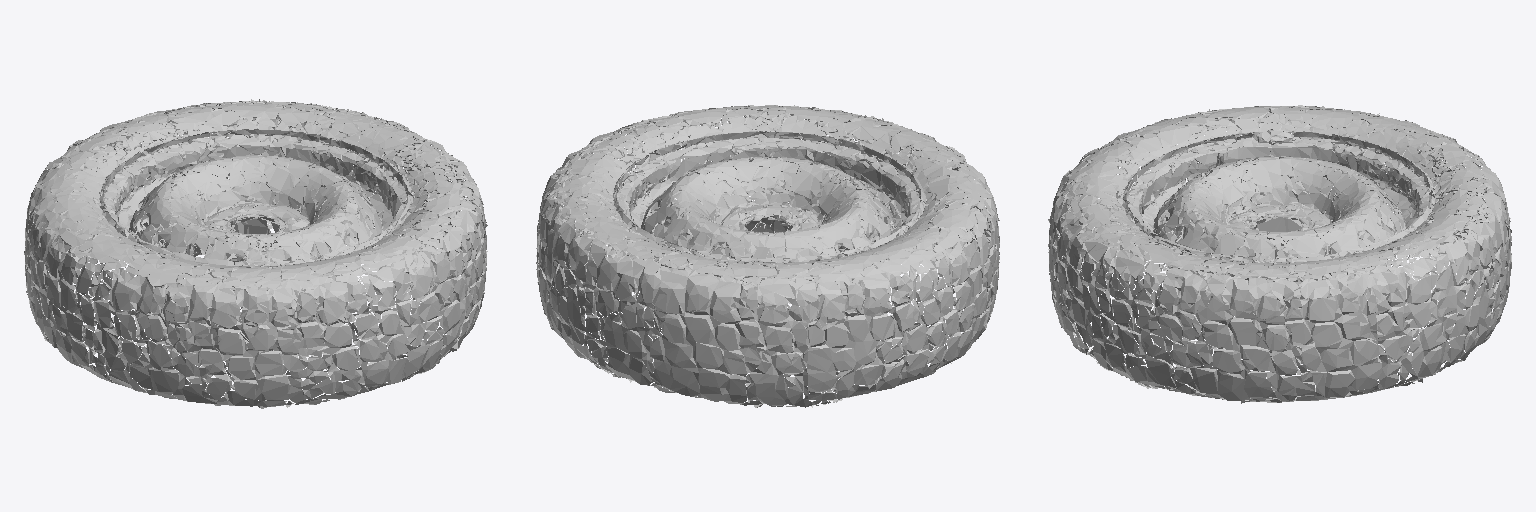
The model's file is wheel_lowpoly.obj.
3 views of the same model, side by side, from view 1: azimuth 30°, elevation 25°; view 2: azimuth 150°, elevation 25°; view 3: azimuth 270°, elevation 25° (orthographic).
Visible parts, largest first — view 1: wheel_base.002; view 2: wheel_base.002; view 3: wheel_base.002.
Boxes of the visible parts, <box> form: wheel_base.002: <box>24,99,487,408</box>; wheel_base.002: <box>536,105,999,407</box>; wheel_base.002: <box>1048,105,1511,403</box>.
Size of the model in its own units: 0.609 by 0.2026 by 0.6097.